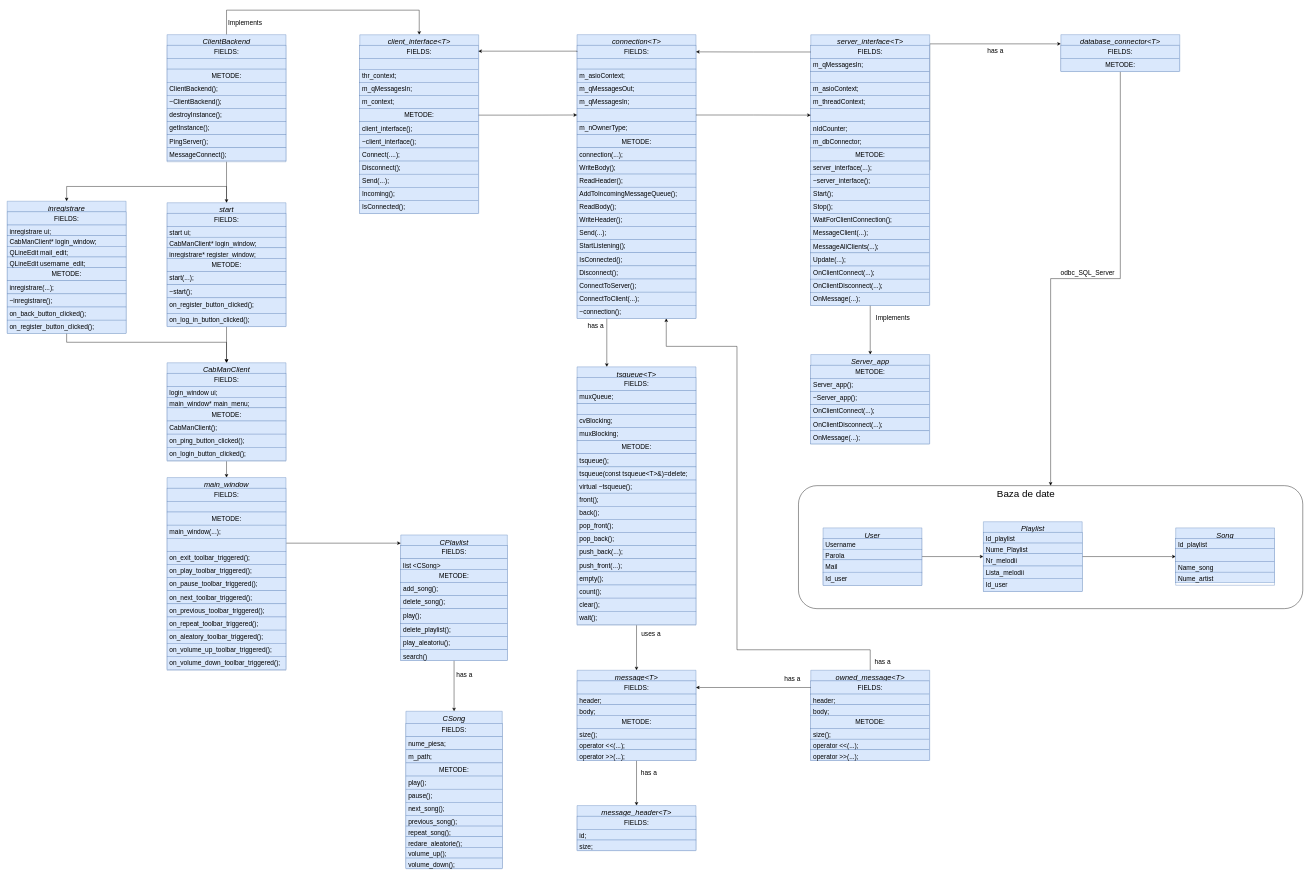
Image size: 1310x877. Some labels were removed from this diagram. Here are the shapes that lost their labels. From the top down, the centre of each, then its label:
(x=226, y=63): instance
(x=419, y=63): m_connection;
(x=636, y=63): m_socket;
(x=870, y=76): m_deqConnections;
(x=636, y=115): m_msgTemporaryIn;
(x=870, y=115): m_asioAcceptor;
(x=636, y=408): deqQueue;
(x=226, y=506): MainWindow ui;
(x=226, y=544): ~main_window();
(x=1224, y=554): Id_song
